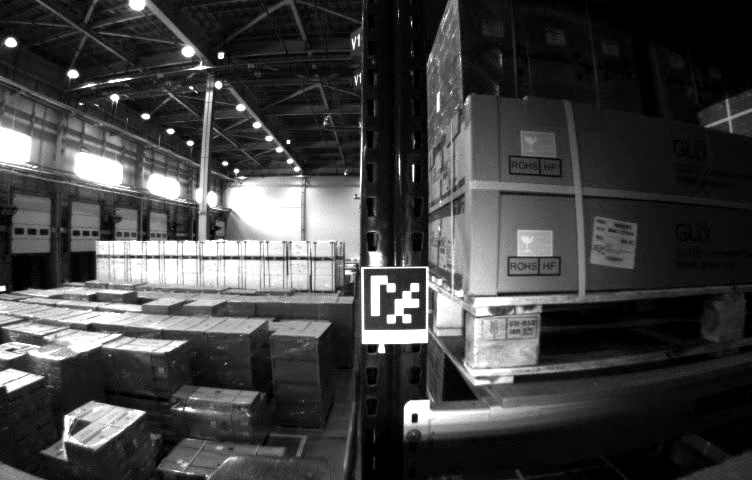True Barcode: (585, 215, 641, 272)
